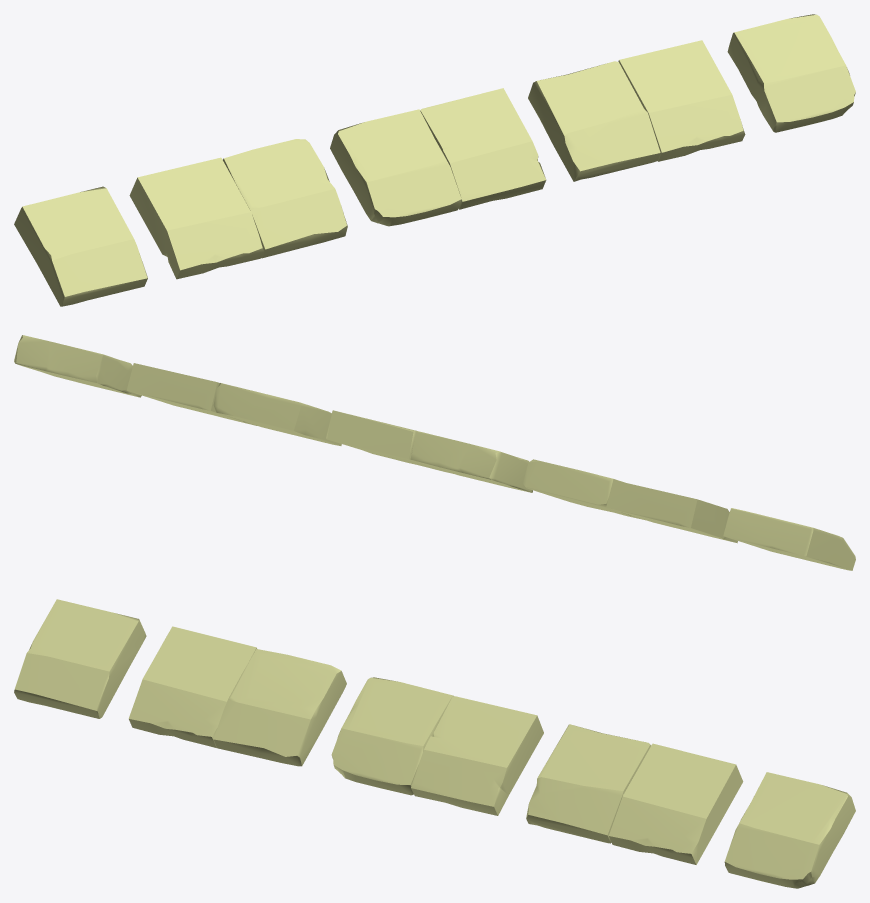
File: stone_element_19_battlements_line_x4.fbx
3 renders of one model, top to bottom at view 1: azimuth 30°, elevation 25°; view 2: azimuth 150°, elevation 25°; view 3: azimuth 330°, elevation 25°, orthographic.
Visible parts, largest first — view 1: stone_element_19_battlements_line_x4_LOD0; view 2: stone_element_19_battlements_line_x4_LOD0; view 3: stone_element_19_battlements_line_x4_LOD0.
Boxes of the visible parts, x1,y1,x2,y2 form: stone_element_19_battlements_line_x4_LOD0: (14,14,855,306); stone_element_19_battlements_line_x4_LOD0: (14,335,855,570); stone_element_19_battlements_line_x4_LOD0: (14,599,855,888).
Size of what is drawn, in the model's own units: 409 by 35.94 by 45.54.
